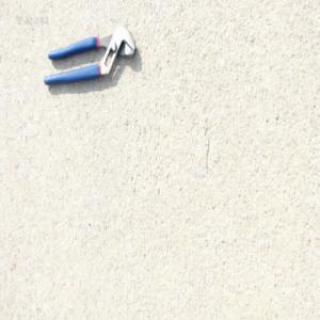Pliertrack_idkeyframe: (41, 24, 135, 86)
